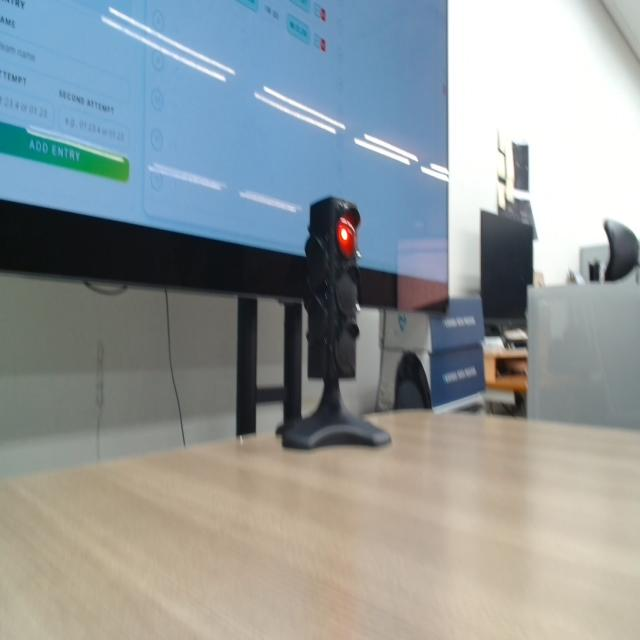red_light: (338, 217, 356, 259)
